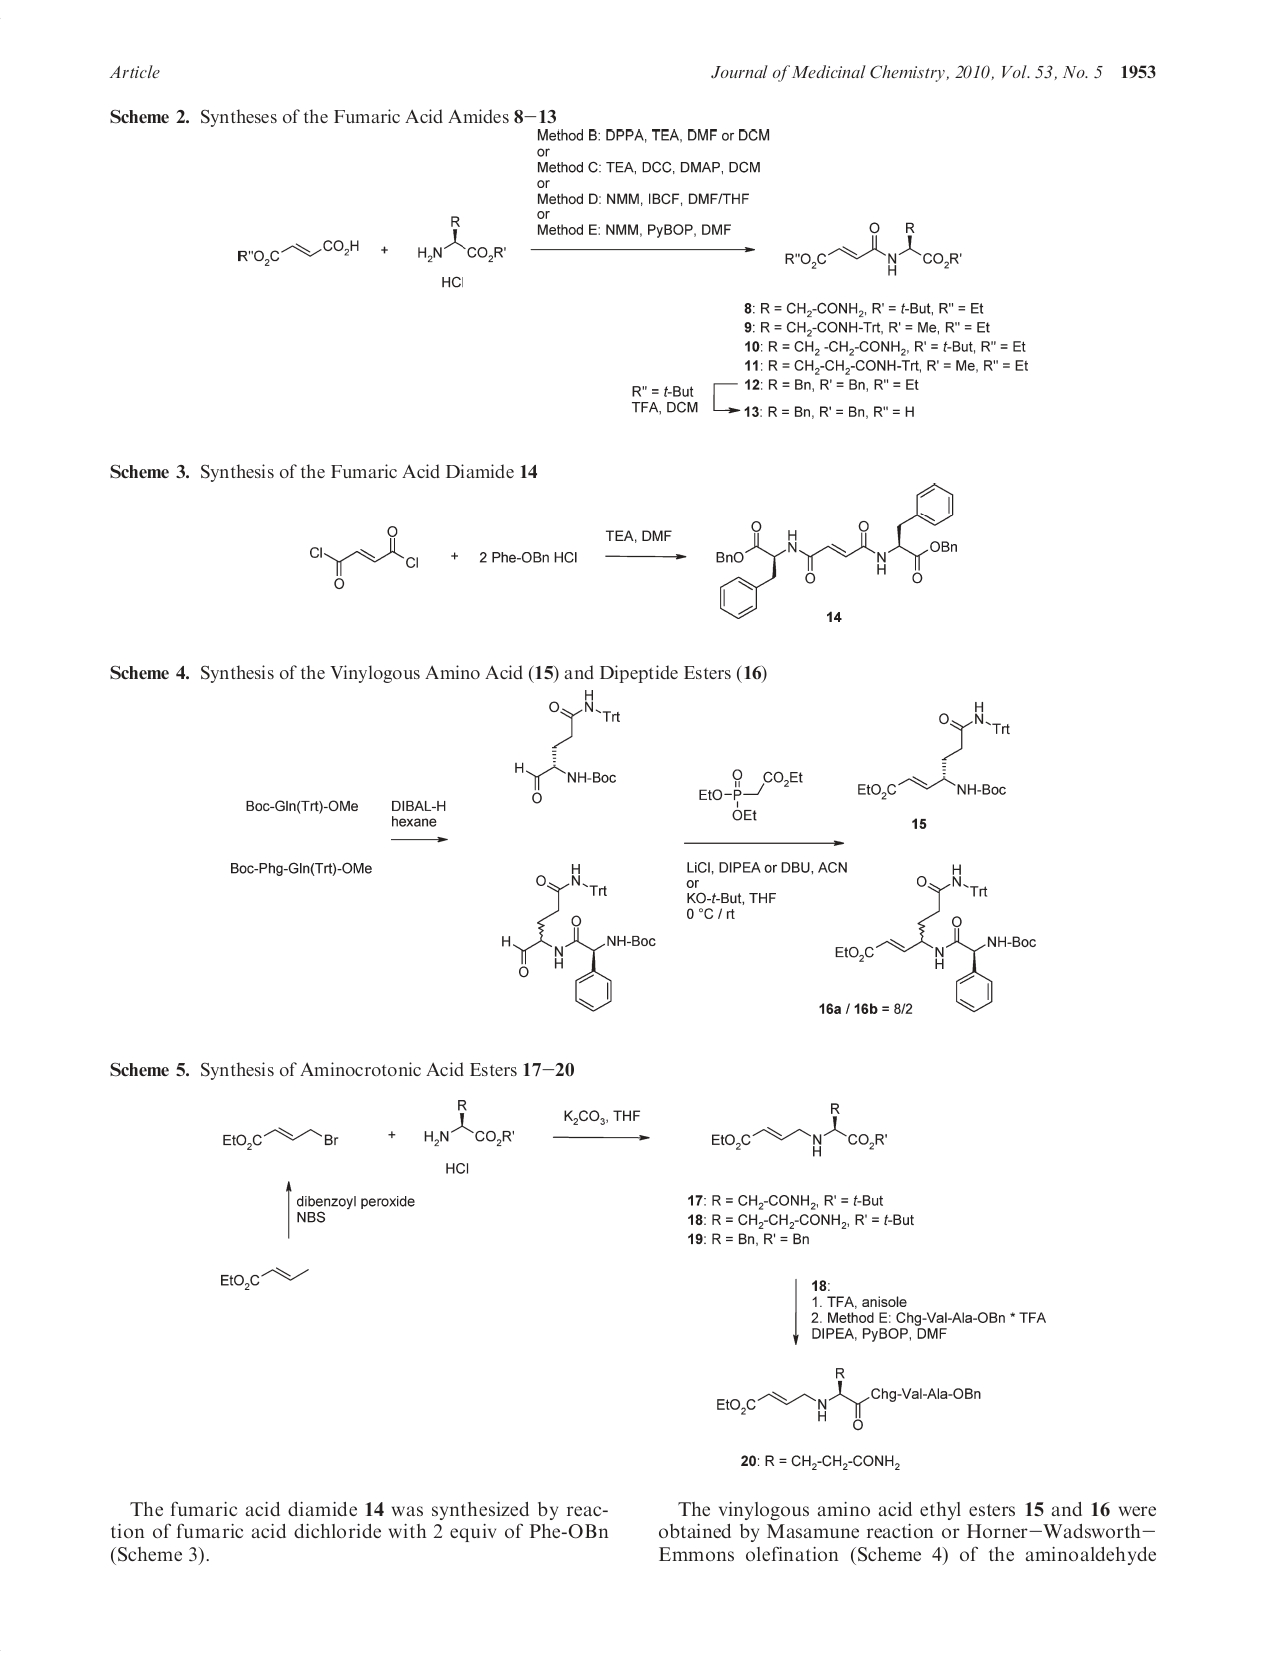exist_molecular: (715, 483, 961, 621), (832, 862, 1036, 1013), (501, 862, 660, 1013), (711, 1364, 983, 1430), (856, 700, 1012, 801), (512, 689, 622, 806), (709, 1100, 890, 1160), (785, 221, 963, 277), (309, 524, 422, 590), (696, 763, 805, 822), (414, 215, 509, 265), (420, 1098, 515, 1148), (231, 233, 360, 266), (218, 1122, 340, 1150), (218, 1261, 311, 1290)
